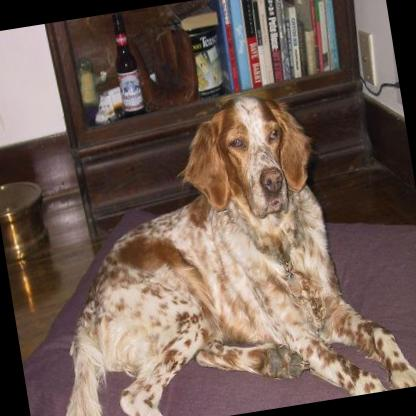English_setter: (12, 76, 416, 416)
